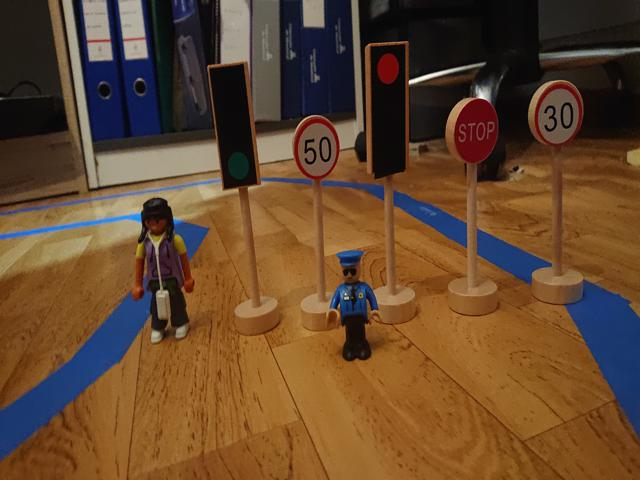30 speed sign: (535, 80, 584, 148)
50 speed sign: (293, 116, 340, 182)
green light: (216, 74, 254, 185)
person: (127, 197, 197, 349), (324, 250, 382, 361)
red light: (371, 46, 405, 165)
stop sign: (454, 97, 499, 165)
